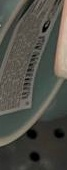1d: (20, 50, 41, 99)
